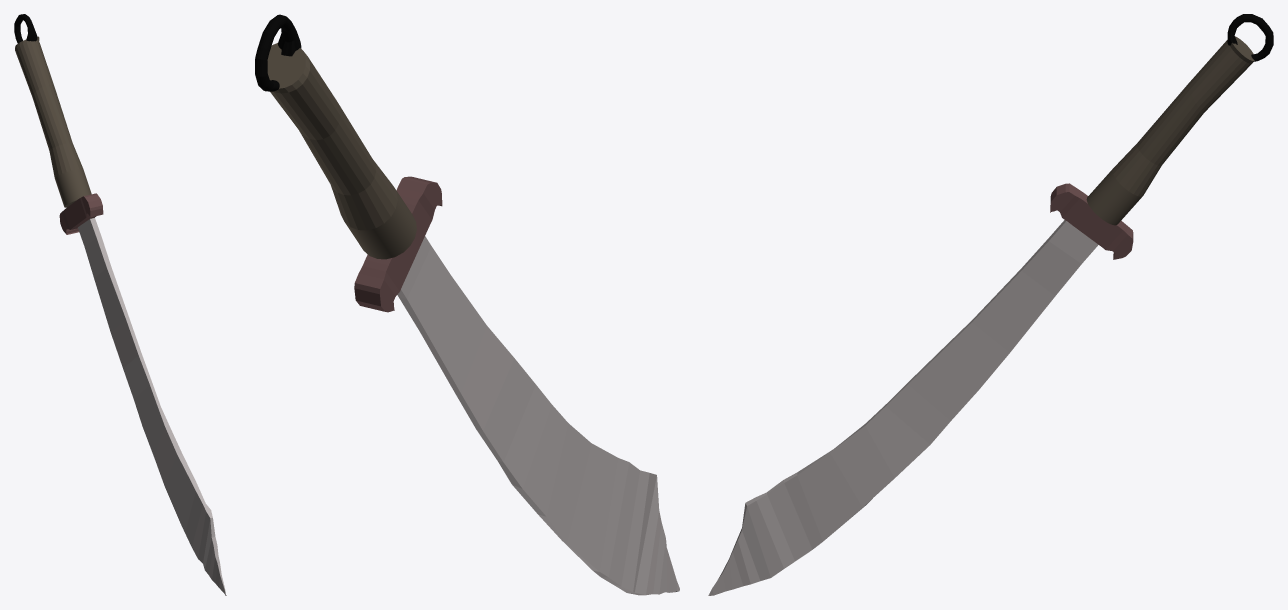
File: SWORD.fbx
3 views of the same model, side by side, from view 1: azimuth 30°, elevation 25°; view 2: azimuth 150°, elevation 25°; view 3: azimuth 270°, elevation 25° (orthographic). The views are drawn at different scales.
Visible parts, largest first — view 1: pCube1, pCylinder2, pCube3, pCylinder3; view 2: pCube1, pCylinder2, pCube3, pCylinder3; view 3: pCube1, pCylinder2, pCube3, pCylinder3.
Boxes of the visible parts, left/top/right/bottom form: pCube1: left=78, top=218, right=226, bottom=595; pCylinder2: left=15, top=36, right=91, bottom=207; pCube3: left=59, top=193, right=103, bottom=234; pCylinder3: left=14, top=14, right=37, bottom=43; pCube1: left=397, top=236, right=679, bottom=595; pCylinder2: left=267, top=43, right=416, bottom=259; pCube3: left=354, top=176, right=442, bottom=312; pCylinder3: left=255, top=14, right=301, bottom=91; pCube1: left=708, top=220, right=1098, bottom=595; pCylinder2: left=1086, top=36, right=1254, bottom=225; pCube3: left=1050, top=183, right=1133, bottom=259; pCylinder3: left=1227, top=14, right=1273, bottom=61.
Size of the model in its own units: 0.7426 by 11.67 by 10.28.
